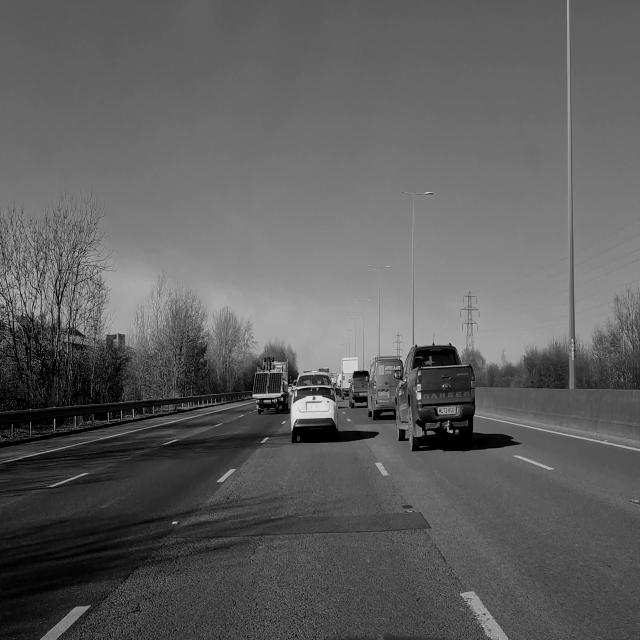car: (392, 339, 479, 458), (291, 373, 338, 442), (367, 357, 402, 420)
